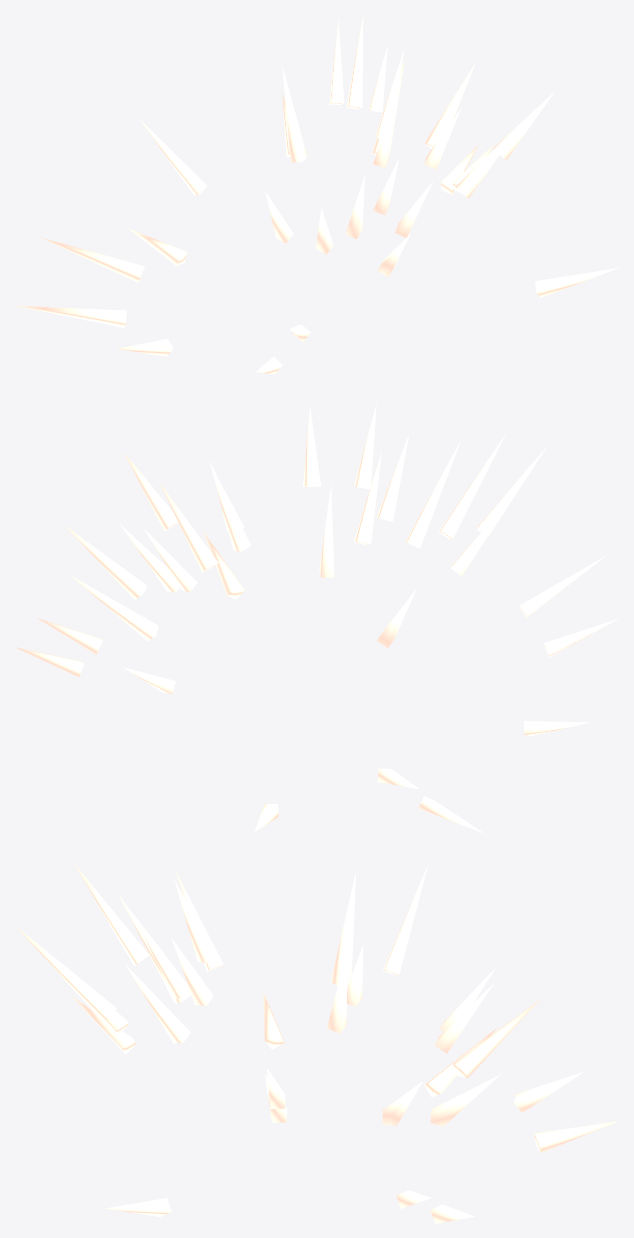
Rendered from fx_burst_red.glb.
3 renders of one model, top to bottom at view 1: azimuth 30°, elevation 25°; view 2: azimuth 150°, elevation 25°; view 3: azimuth 270°, elevation 25°, orthographic. The views are drawn at different scales.
Visible parts, largest first — view 1: fx_burst_red; view 2: fx_burst_red; view 3: fx_burst_red.
Boxes of the visible parts, bbox=[...] form: fx_burst_red: bbox=[15, 15, 619, 374]; fx_burst_red: bbox=[14, 404, 618, 833]; fx_burst_red: bbox=[15, 862, 619, 1223].
Size of the model in its own units: 2.02 by 1.13 by 2.01.
